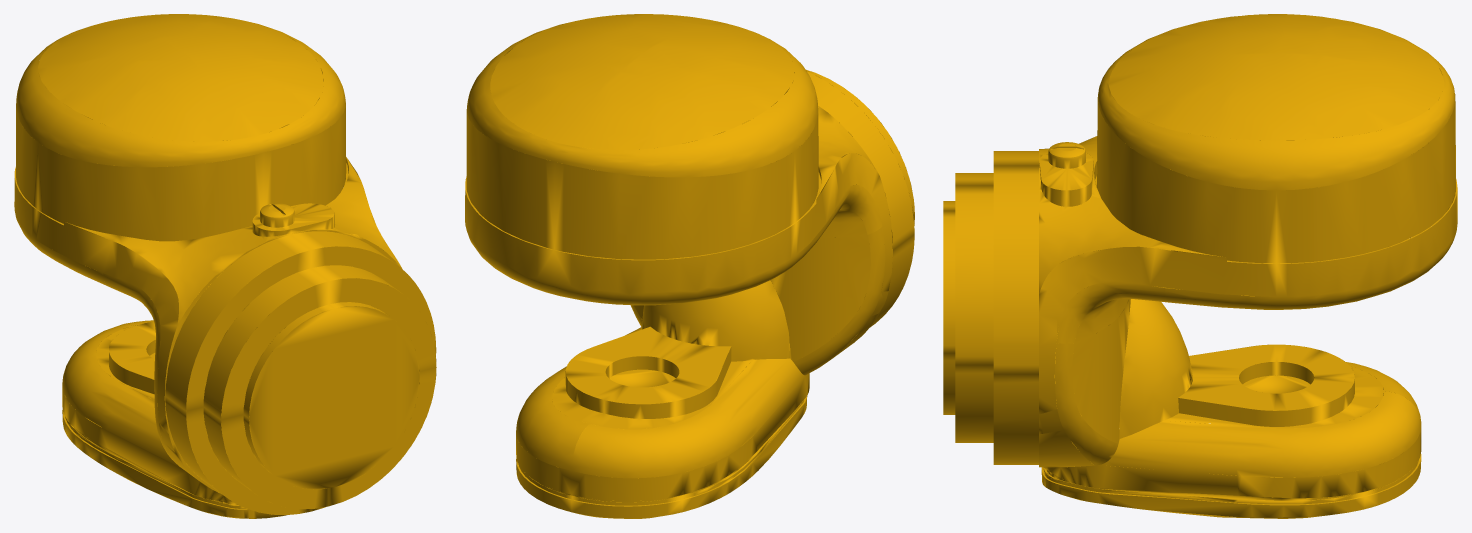
3 views of the same model, side by side, from view 1: azimuth 30°, elevation 25°; view 2: azimuth 150°, elevation 25°; view 3: azimuth 270°, elevation 25° (orthographic). The views are drawn at different scales.
Parts seen in each view (by area): view 1: KR270_Link5; view 2: KR270_Link5; view 3: KR270_Link5.
Part boxes in pixels (x1,y1,x2,y2): KR270_Link5: (14,14,436,518); KR270_Link5: (465,14,914,518); KR270_Link5: (943,14,1457,518).
Size of the model in its own units: 0.2402 by 0.3411 by 0.3248.
